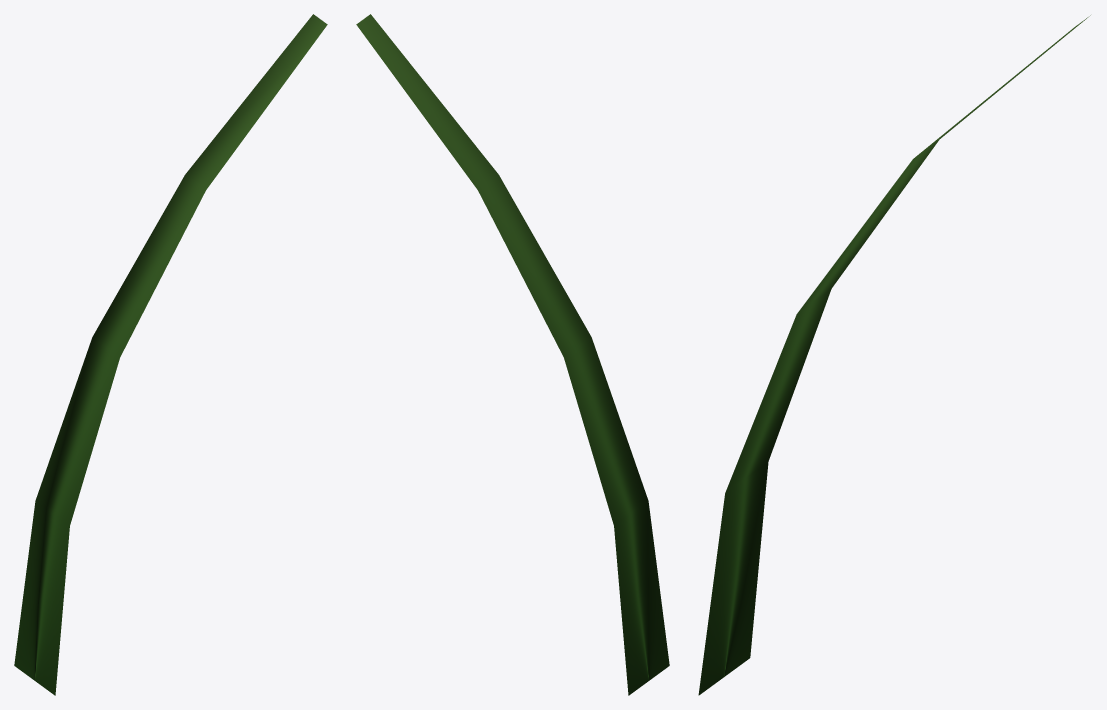
Rendered from Blade_Sedge_Curved.glb.
3 renders of one model, left to right at view 1: azimuth 30°, elevation 25°; view 2: azimuth 150°, elevation 25°; view 3: azimuth 330°, elevation 25°, orthographic. The views are drawn at different scales.
Visible parts, largest first — view 1: Blade_Sedge_Curved; view 2: Blade_Sedge_Curved; view 3: Blade_Sedge_Curved.
Boxes of the visible parts, x1,y1,x2,y2 form: Blade_Sedge_Curved: [14, 14, 327, 695]; Blade_Sedge_Curved: [356, 14, 669, 695]; Blade_Sedge_Curved: [698, 15, 1090, 695].
Size of the model in its own units: 0.08 by 0.1584 by 0.02.
